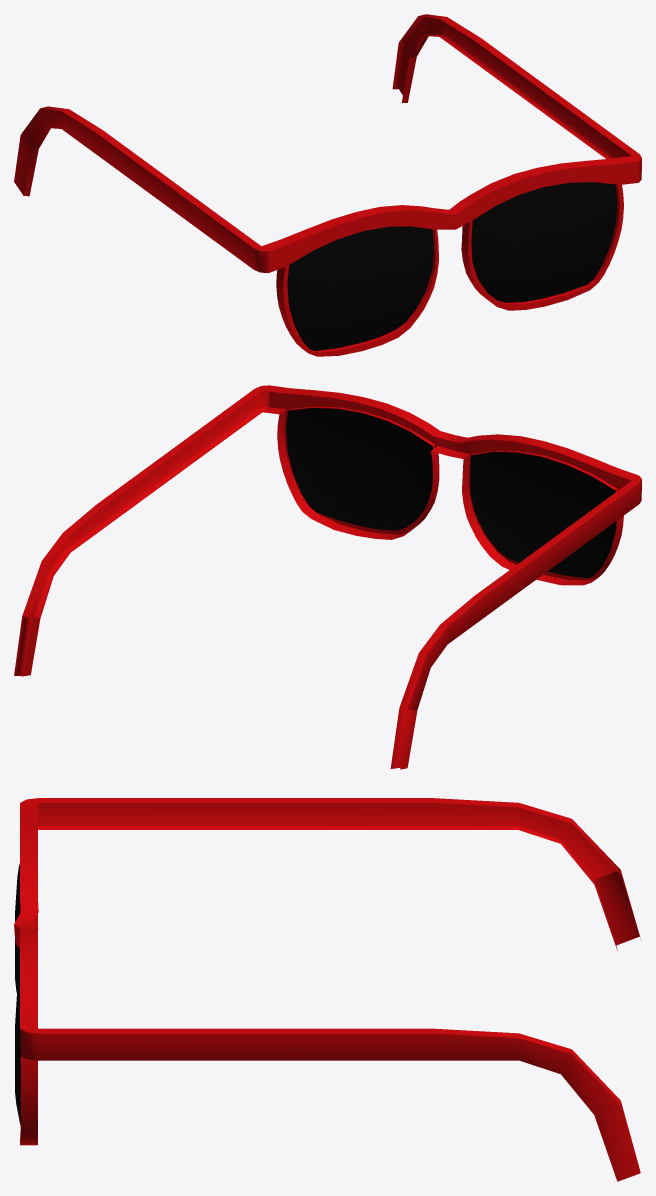
Rendered from EyeGlasses_1.fbx.
3 renders of one model, top to bottom at view 1: azimuth 30°, elevation 25°; view 2: azimuth 150°, elevation 25°; view 3: azimuth 270°, elevation 25°, orthographic. The views are drawn at different scales.
Visible parts, largest first — view 1: EyeGlasses_1; view 2: EyeGlasses_1; view 3: EyeGlasses_1.
Part boxes in pixels (x1,y1,x2,y2): EyeGlasses_1: (14, 14, 641, 356); EyeGlasses_1: (14, 385, 641, 769); EyeGlasses_1: (14, 798, 641, 1181).
Bounding box in the file's own units: 12.5 × 4.14 × 14.08.
